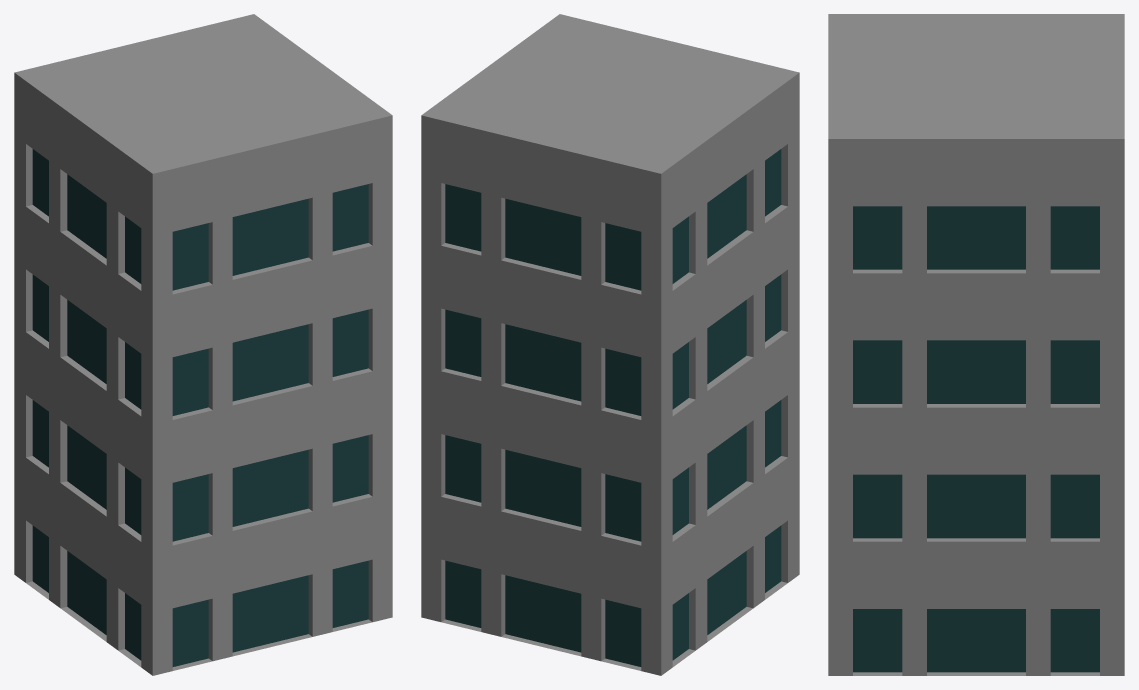
The model's file is FlappyBuilding.fbx.
3 views of the same model, side by side, from view 1: azimuth 30°, elevation 25°; view 2: azimuth 150°, elevation 25°; view 3: azimuth 270°, elevation 25° (orthographic). The views are drawn at different scales.
Parts seen in each view (by area): view 1: Cube.001; view 2: Cube.001; view 3: Cube.001.
Part boxes in pixels (<box>): Cube.001: <box>14,14,392,675</box>; Cube.001: <box>421,14,799,675</box>; Cube.001: <box>828,14,1124,675</box>.
Bounding box in the file's own units: 1000 × 2000 × 1000.
